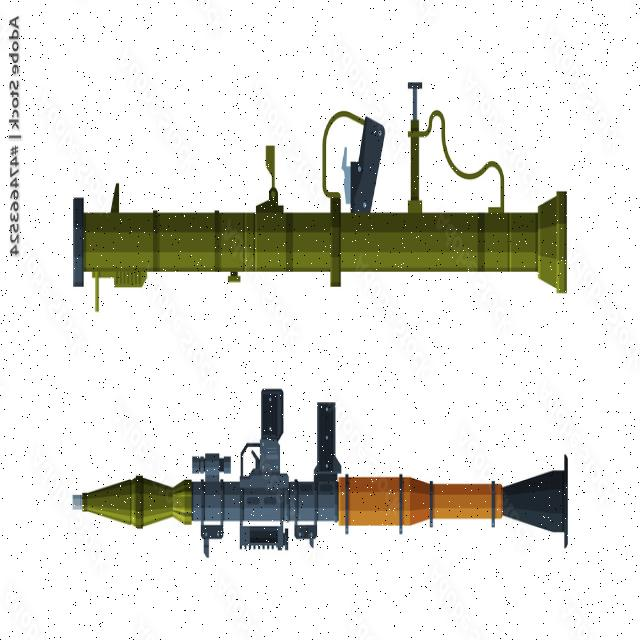bazooka: (71, 77, 576, 319), (69, 382, 575, 560)
